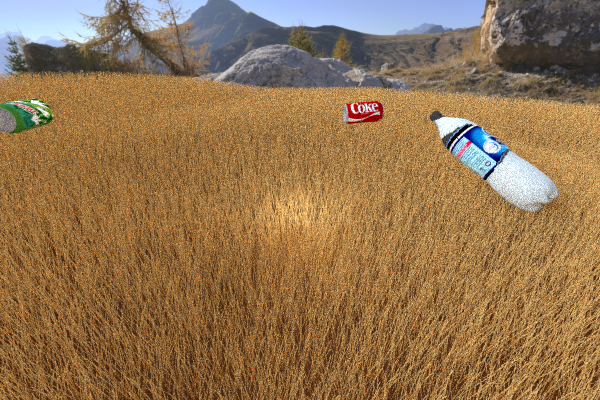Plastic Bottle: (429, 110, 558, 212), (0, 98, 53, 133), (342, 100, 384, 124)
